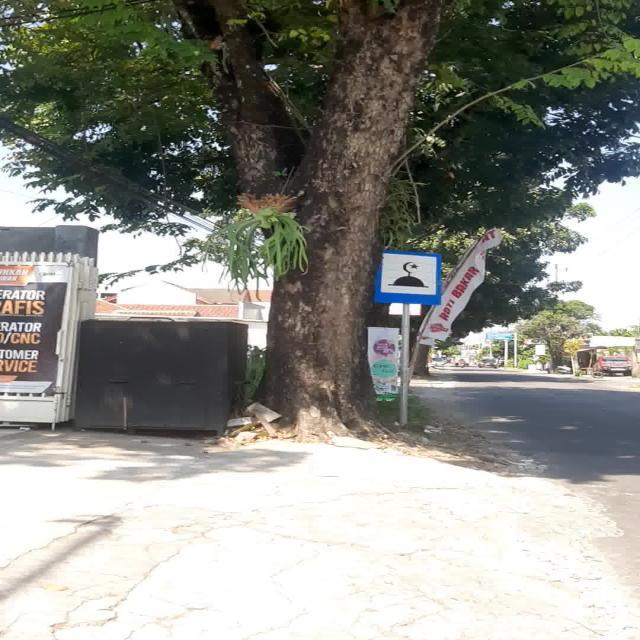Masjid: (374, 250, 442, 305)
